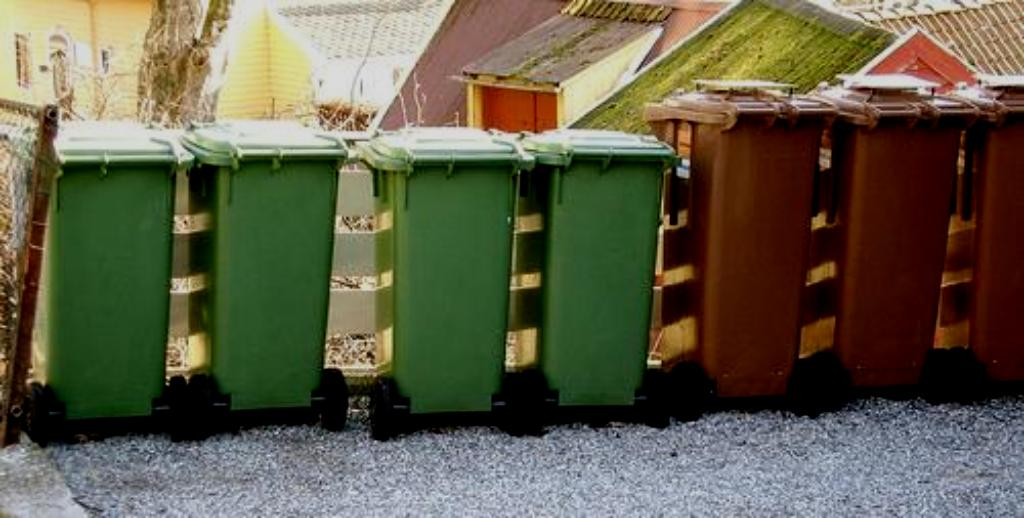dustbin: (173, 118, 357, 439), (357, 126, 533, 439), (29, 114, 190, 447), (512, 122, 676, 436)
